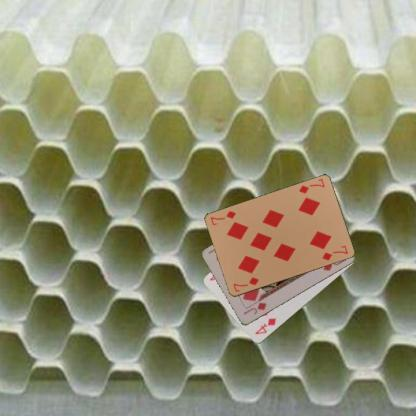4d: (252, 316, 277, 336)
7d: (231, 274, 260, 294), (296, 177, 326, 196)
Jd: (241, 300, 267, 316)
